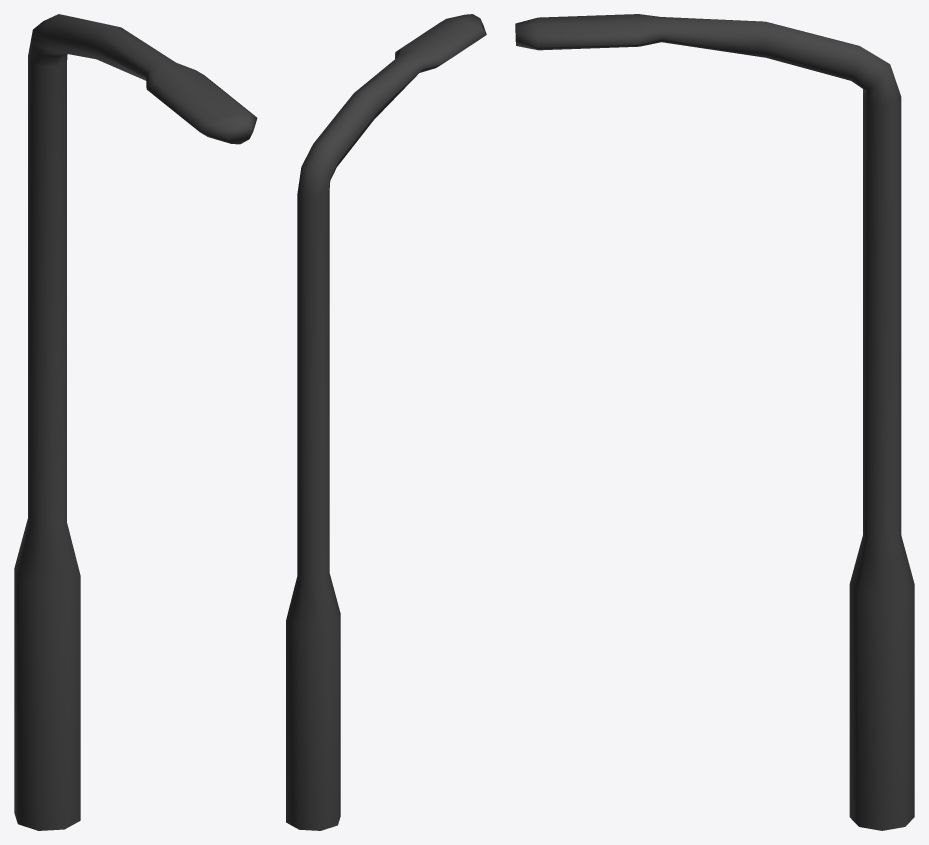
Rendered from streetlight.FBX.
3 renders of one model, left to right at view 1: azimuth 30°, elevation 25°; view 2: azimuth 150°, elevation 25°; view 3: azimuth 270°, elevation 25°, orthographic. The views are drawn at different scales.
Visible parts, largest first — view 1: Cylinder001; view 2: Cylinder001; view 3: Cylinder001.
Part boxes in pixels (<box>): Cylinder001: <box>14,14,257,830</box>; Cylinder001: <box>286,14,486,830</box>; Cylinder001: <box>515,14,914,830</box>.
Bounding box in the file's own units: 3.54 × 47.94 × 21.76.
1 material, 1 textured.
